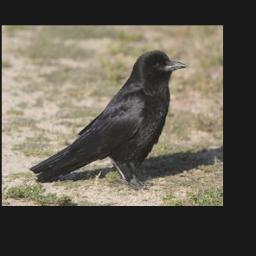Crow: (29, 49, 189, 190)
